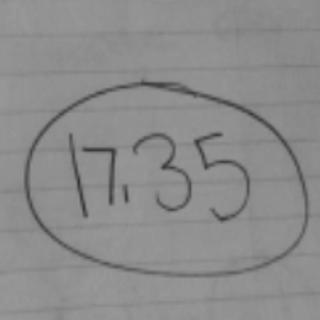.: (121, 183, 134, 203)
1: (65, 130, 84, 218)
3: (134, 129, 193, 213)
5: (194, 129, 254, 223)
7: (84, 140, 117, 202)
